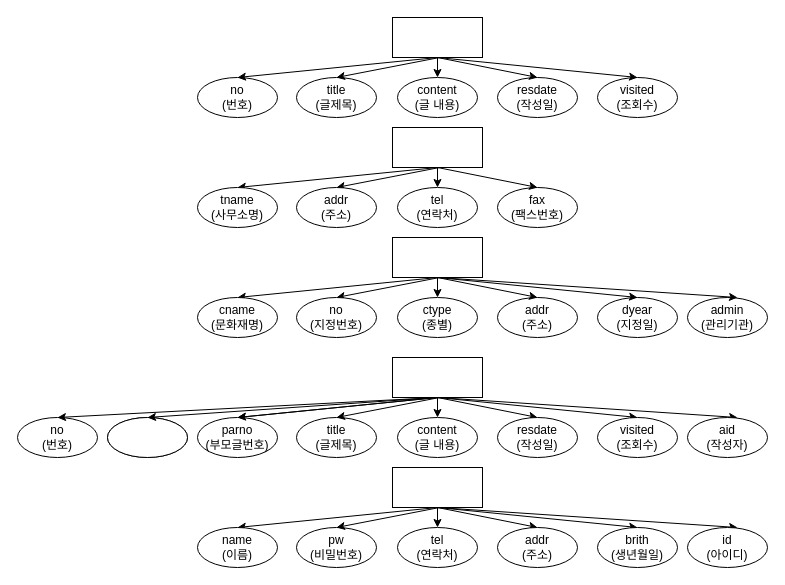
The diagram is 785 pixels wide and 585 high, and some of its shapes have lost their labels. The shapes that lost their labels are listed below. From the top down, each one's centre as x and y in pixels, then its label:
At (x=437, y=37): "notice (공지사항)".
At (x=437, y=147): "office (사무소)".
At (x=437, y=257): "culturalheritage (문화재)".
At (x=437, y=377): "qna (자유게시판)".
At (x=147, y=437): "plevel (글 종류)".
At (x=437, y=487): "member (회원)".
